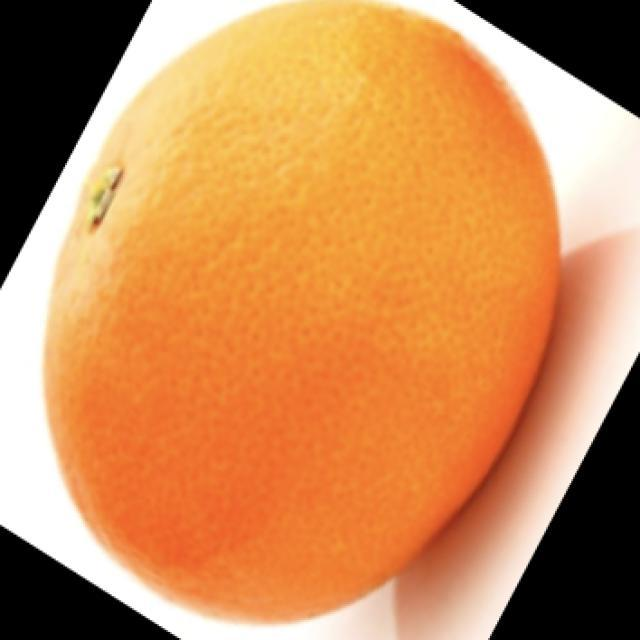Orange: (41, 0, 562, 625)
